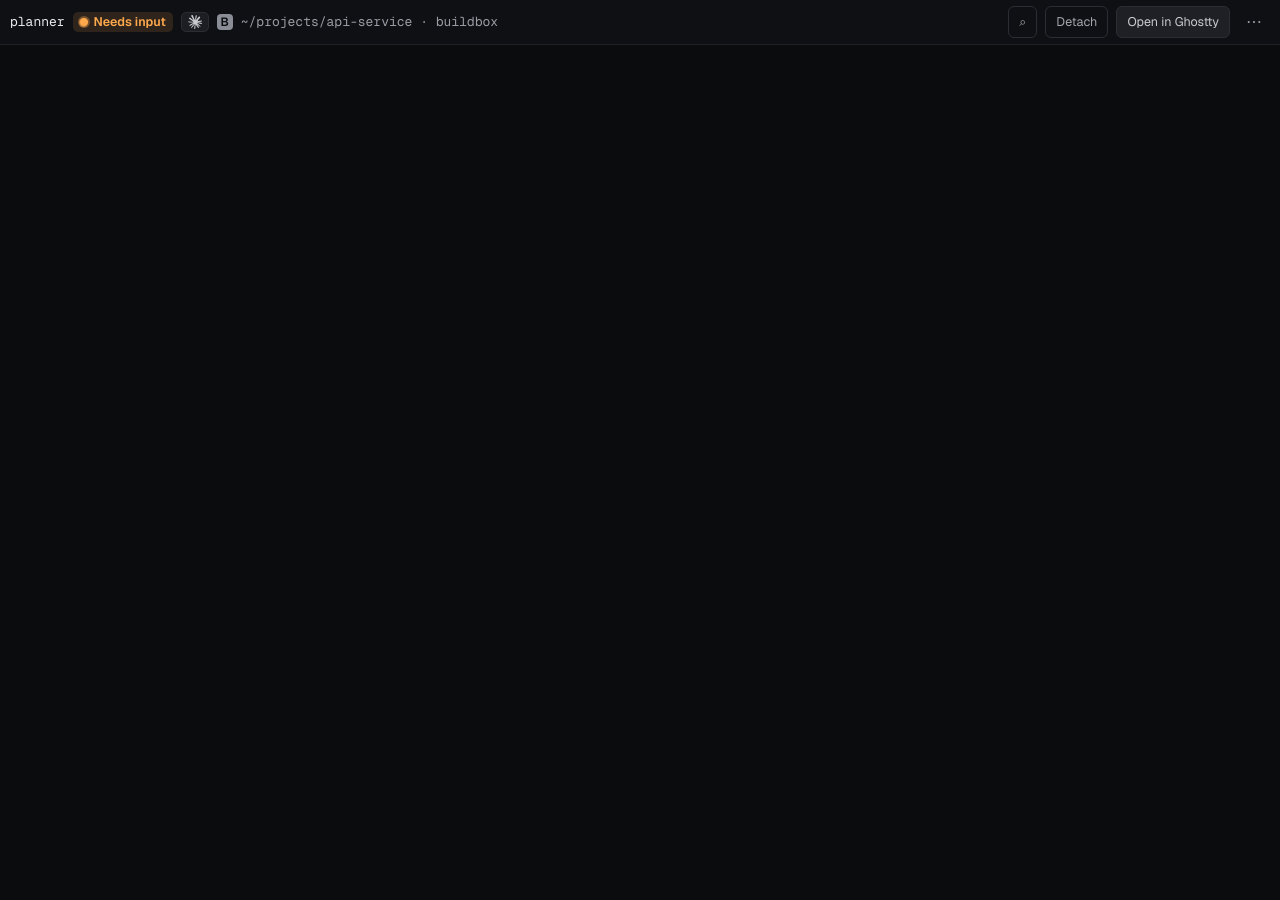
it: ContextBar › close_pane_opens_the_confirm_dialog
Click the button named "More actions": click(1254, 22) [1238, 6, 1270, 38]
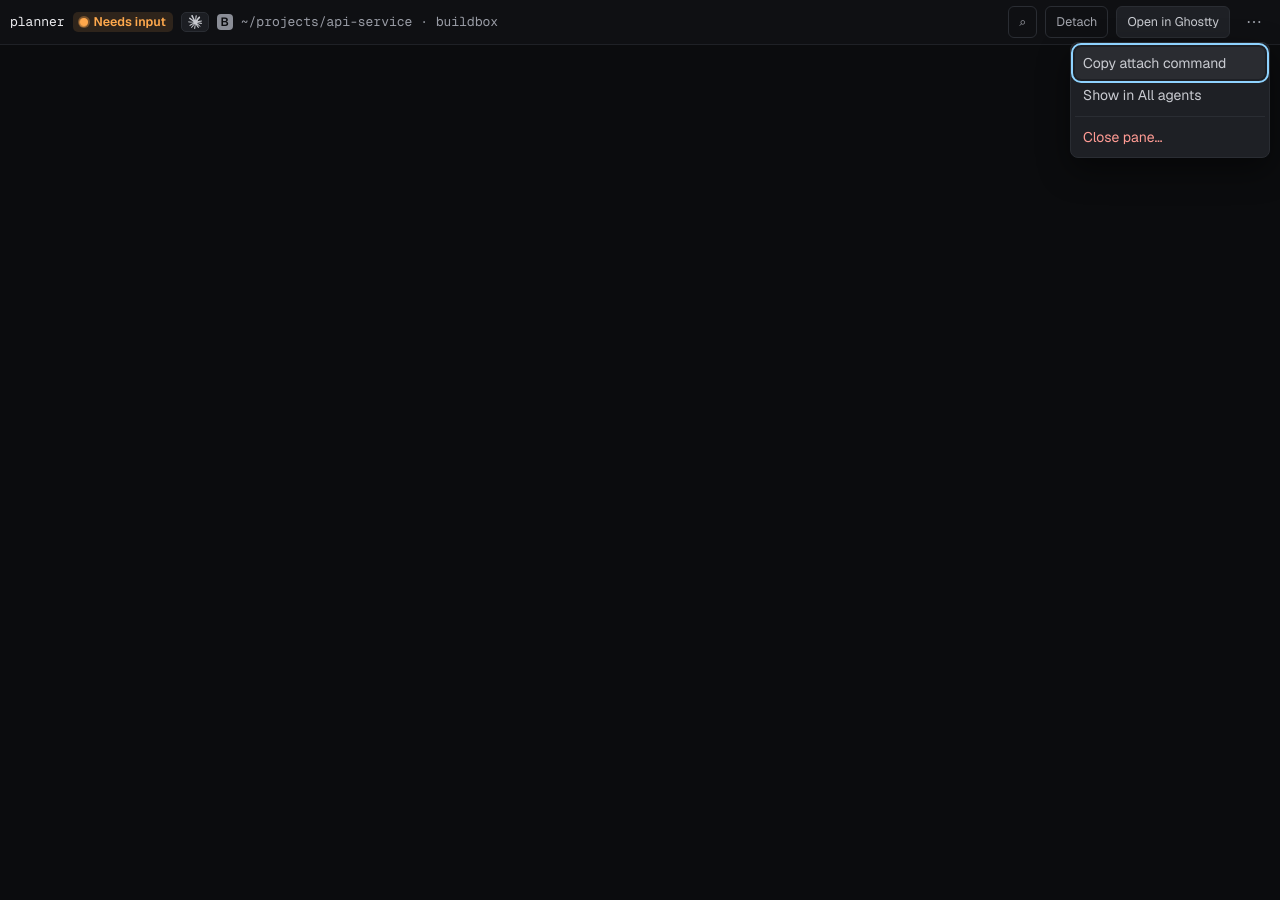
Click the menu item "Close pane…": click(1170, 137) [1075, 121, 1265, 153]
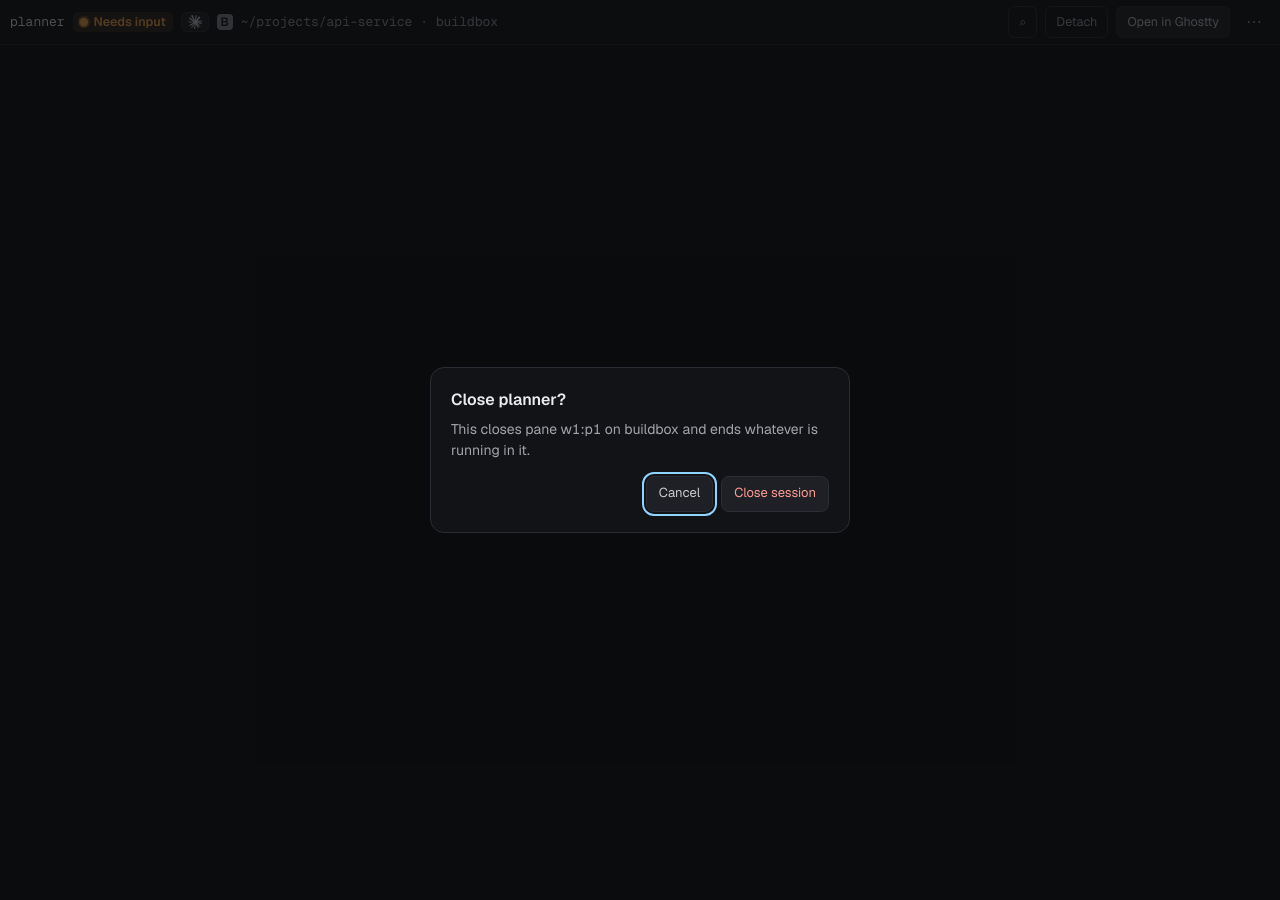
Check: the dialog "Close planner?" is shown, box [430, 367, 850, 533]
Click the button "Cancel": click(680, 494) [646, 476, 713, 512]
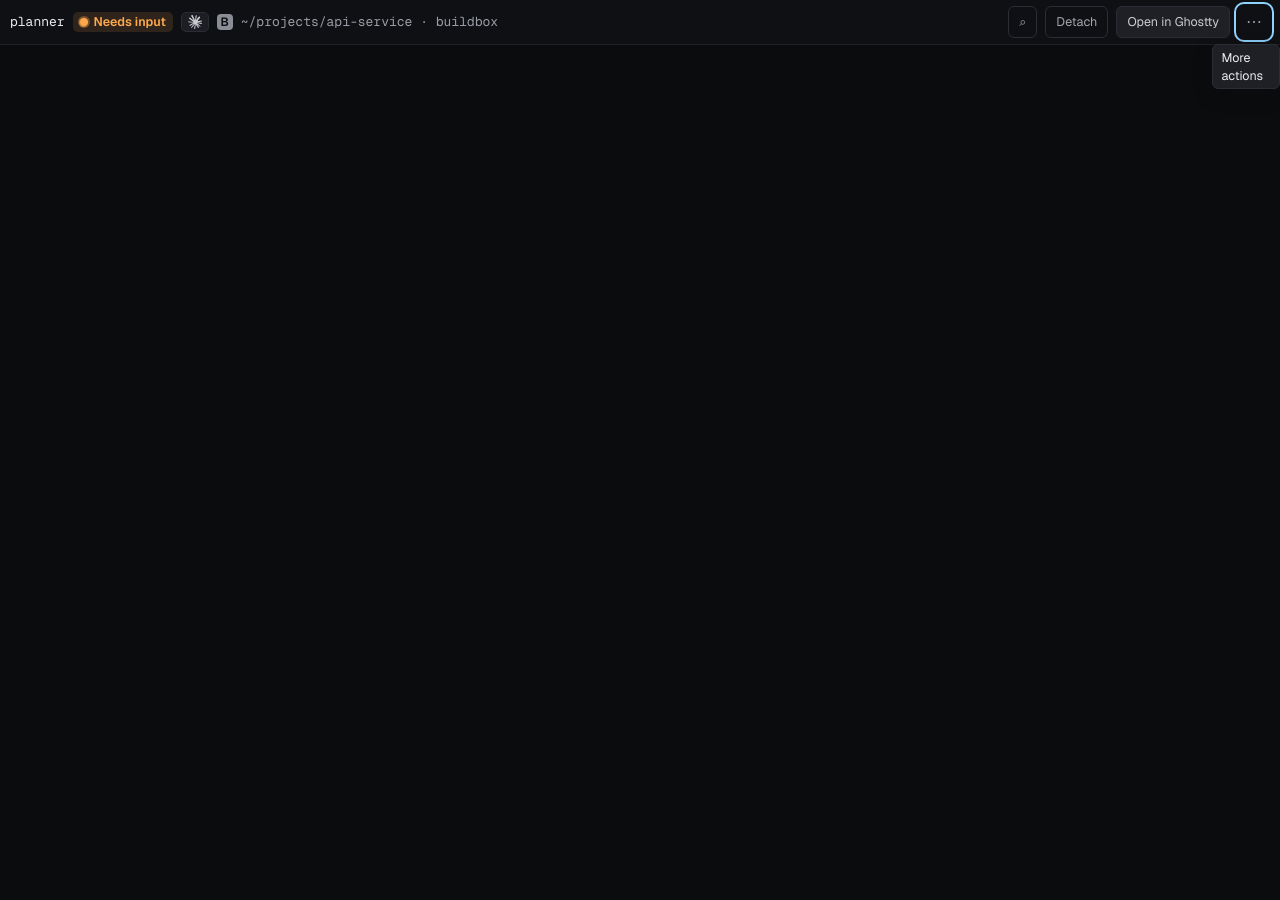
Check: the dialog is gone
